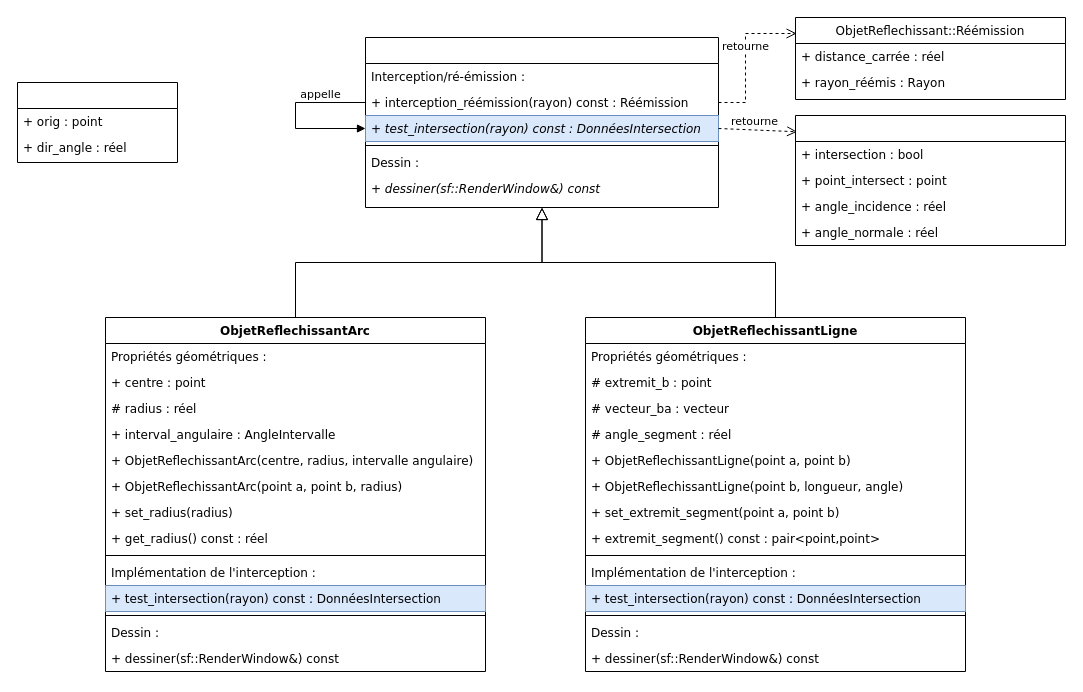
This 1083x692 diagram has some shape labels left out. Each missing label, with the box of its shape:
ObjetReflechissant: (364, 36, 718, 208)
ObjetReflechissant::DonnéesIntersection: (794, 114, 1066, 246)
Rayon: (16, 82, 178, 162)
